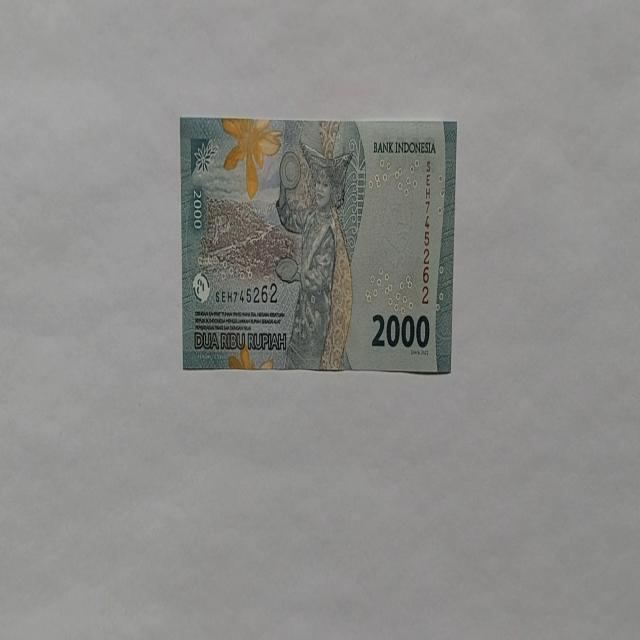dua ribu rupiah: (179, 116, 457, 374), (274, 138, 354, 370)
